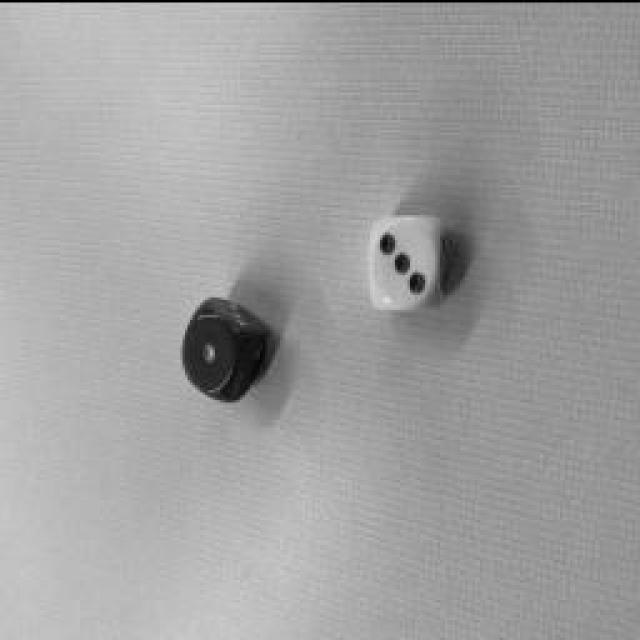dice_1: (182, 310, 238, 390)
dice_3: (370, 215, 440, 303)
